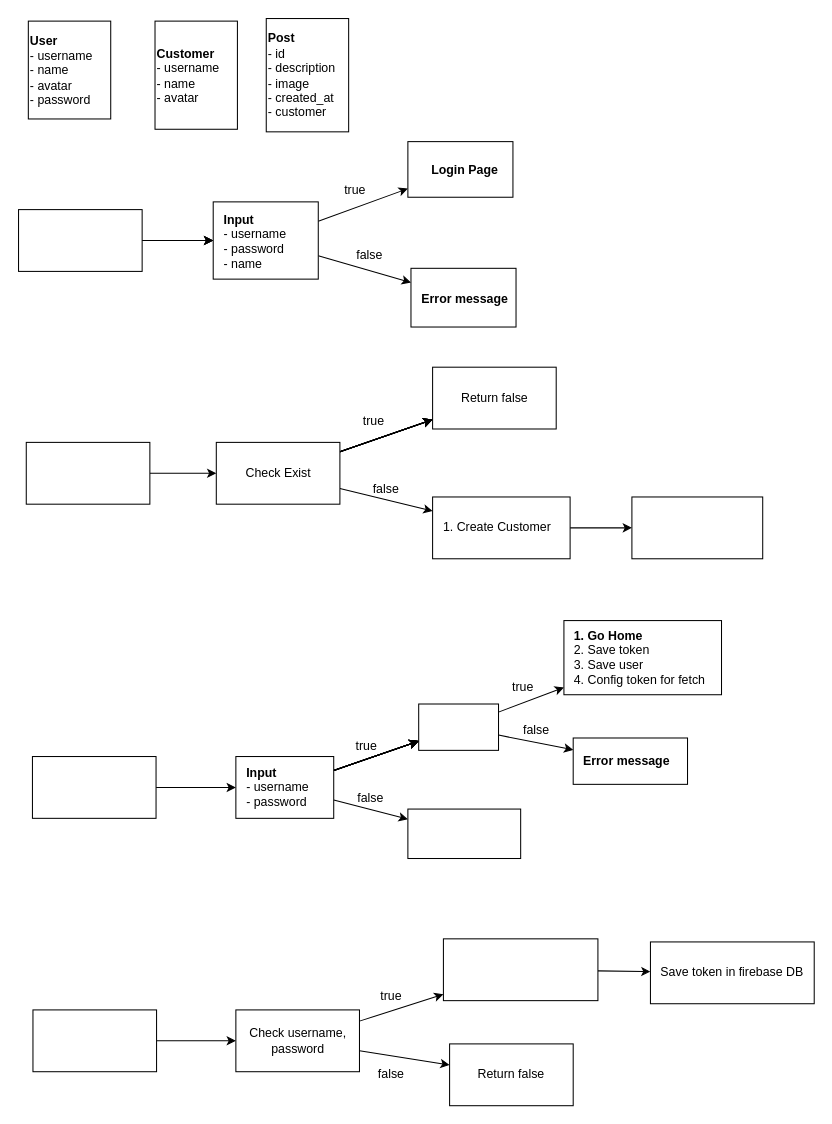
The diagram is 832 pixels wide and 1124 high, and some of its shapes have lost their labels. Here are the shapes that lost their labels. From the top down, the centre of each, then its label:
[80,240]: Sign Up (Client)
[87,472]: Sign Up (Server)
[697,527]: Save to firebase DB
[458,726]: Call api
[93,787]: Sign In (Client)
[464,833]: Input error message
[520,969]: 1. Create token 2. Send token to client
[94,1040]: Sign In (Server)
